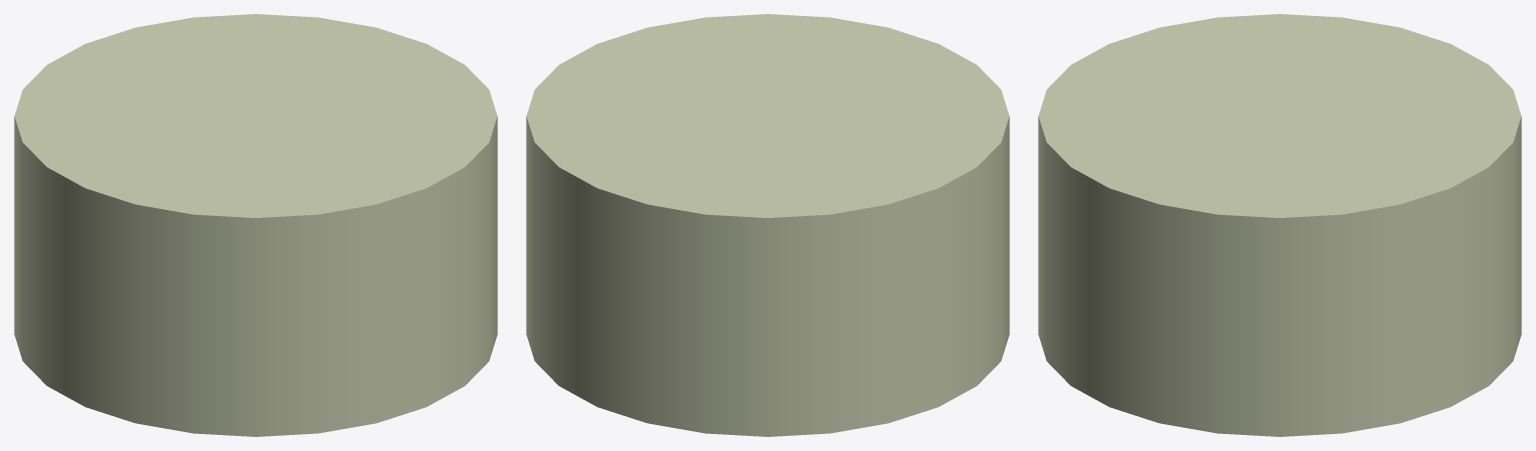
File: ruby_fuel_tank_s2_1.obj
3 renders of one model, left to right at view 1: azimuth 30°, elevation 25°; view 2: azimuth 150°, elevation 25°; view 3: azimuth 270°, elevation 25°, orthographic.
Parts seen in each view (by area): view 1: ruby_fuel_tank_s2_1; view 2: ruby_fuel_tank_s2_1; view 3: ruby_fuel_tank_s2_1.
Part boxes in pixels (box(x1,y1,x2,y2)): ruby_fuel_tank_s2_1: box(14, 14, 497, 436); ruby_fuel_tank_s2_1: box(526, 14, 1009, 436); ruby_fuel_tank_s2_1: box(1038, 14, 1521, 436).
Size of the model in its own units: 2.5 by 1.25 by 2.5.
